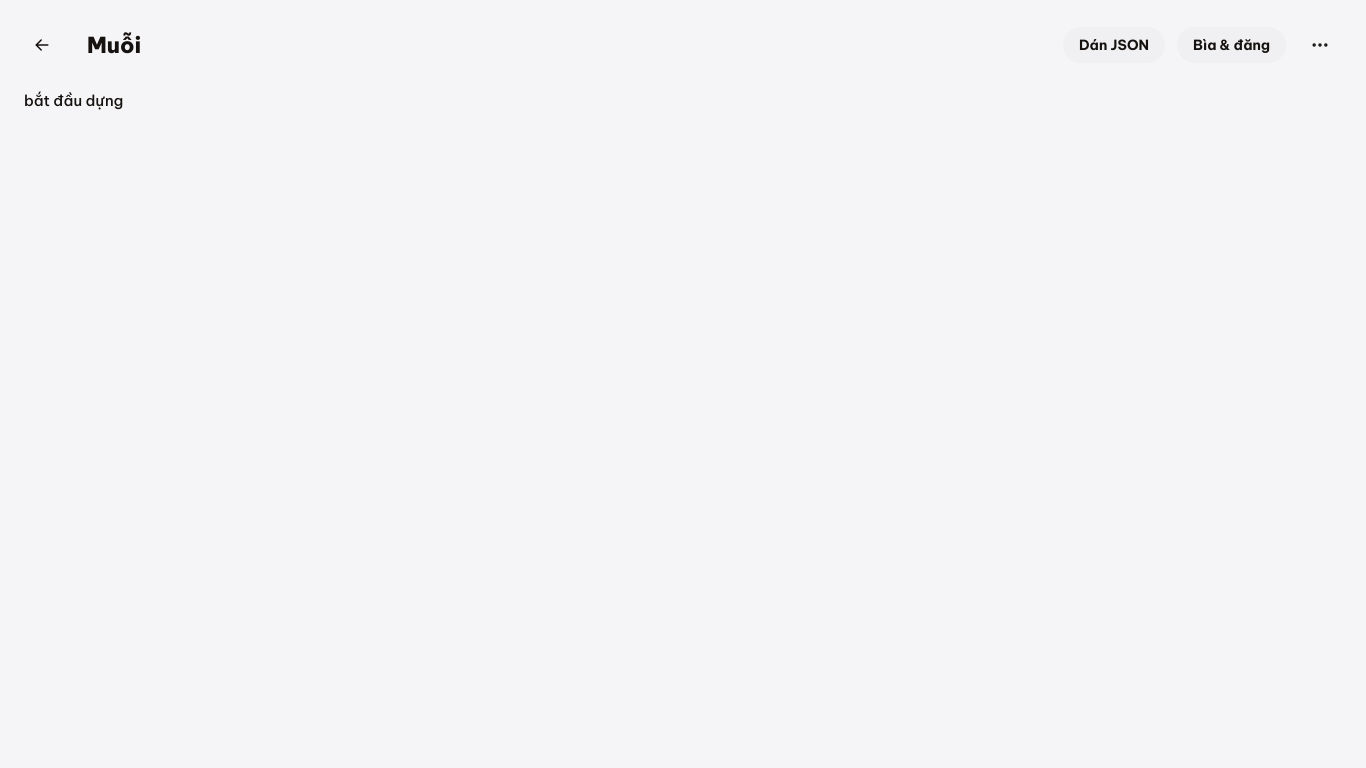
Test case: BackupsDialog (menu ⋯ → Bản sao lưu) › says so when there is no backup yet
The width and height of the screenshot is (1366, 768).
Click the button named "Thêm thao tác" at {"x": 1320, "y": 45}, box [1298, 23, 1342, 67]
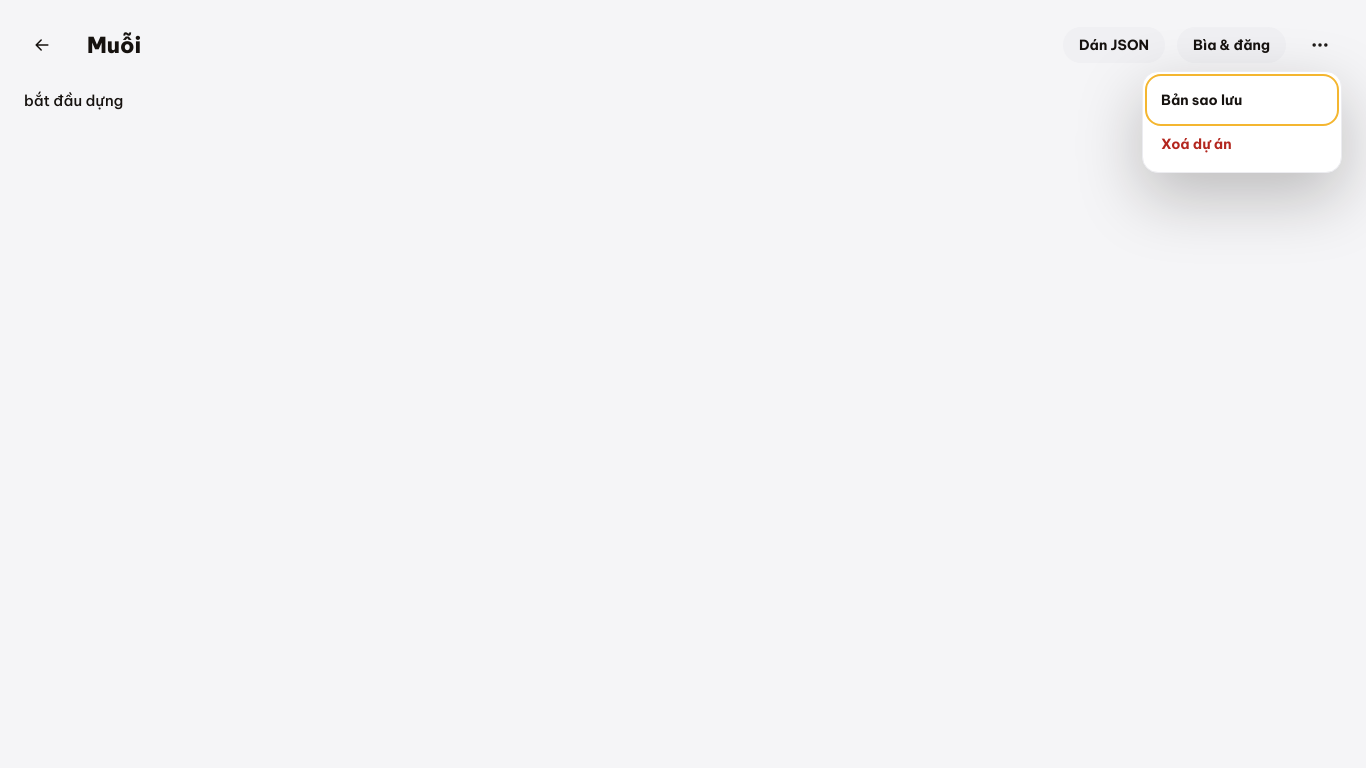
Click the menu item "Bản sao lưu" at {"x": 1242, "y": 100}, box [1149, 78, 1335, 122]
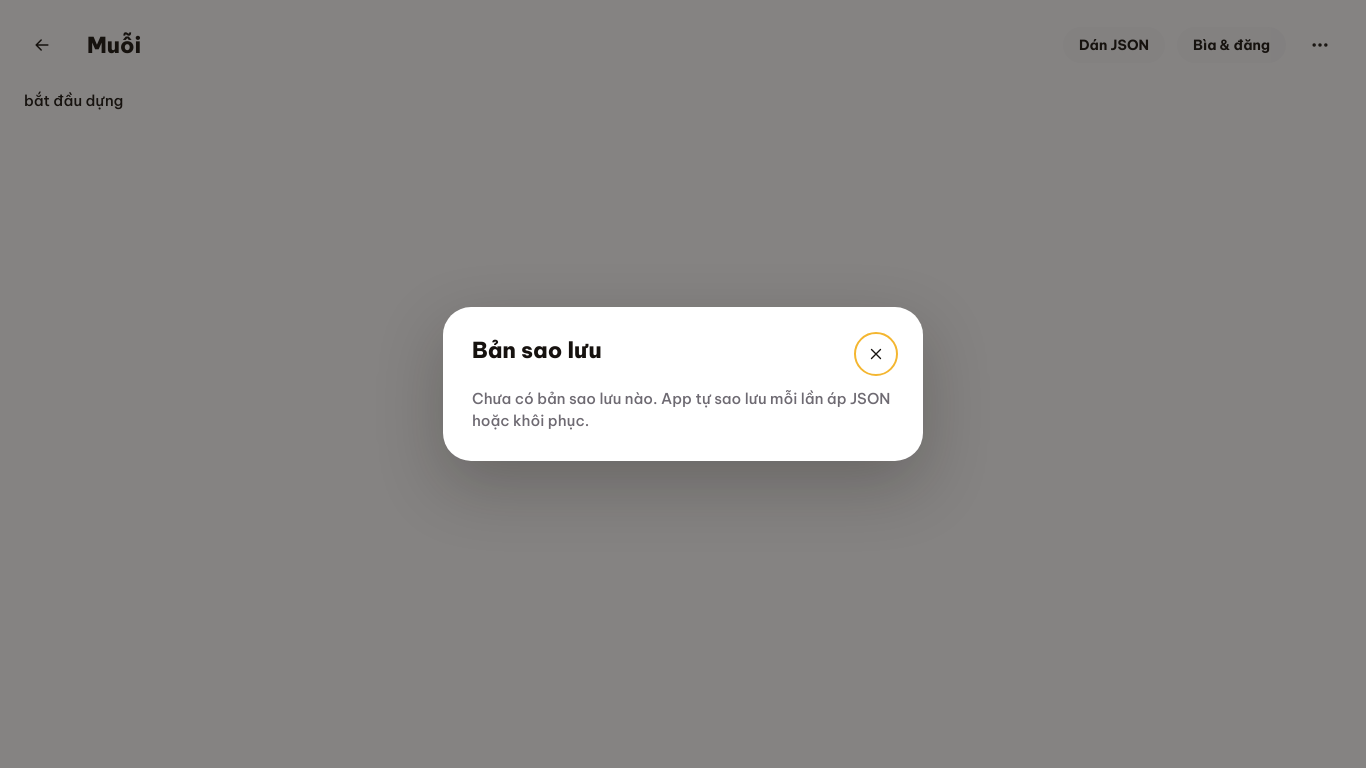
Now the text "Chưa có bản sao lưu nào" is shown, box [472, 389, 890, 430]
